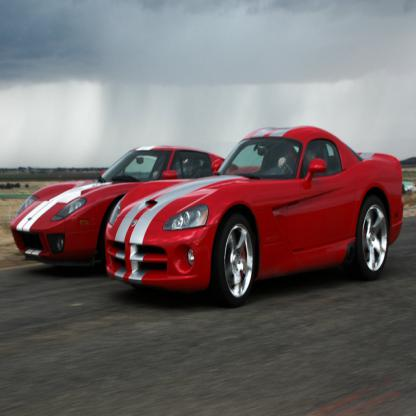Vehicle: (104, 126, 407, 310)
